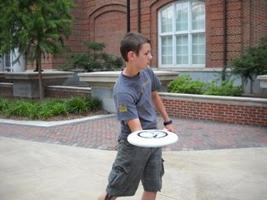person: (98, 33, 177, 200)
